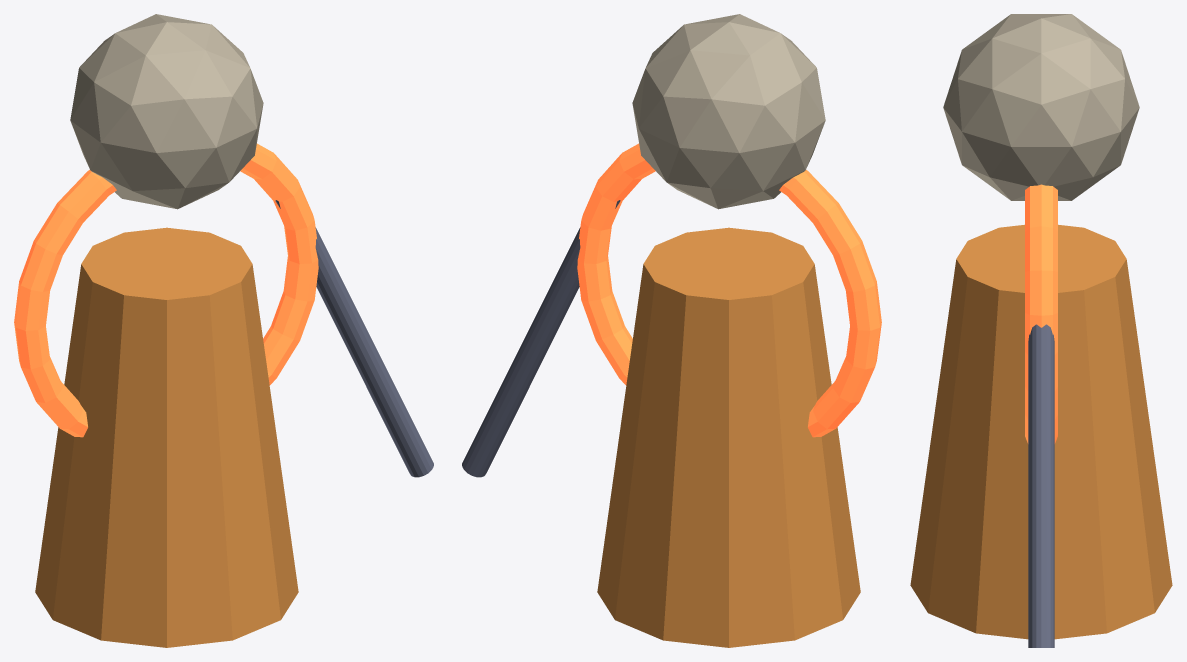
File: ember-cohort.glb
3 views of the same model, side by side, from view 1: azimuth 30°, elevation 25°; view 2: azimuth 150°, elevation 25°; view 3: azimuth 270°, elevation 25° (orthographic).
Visible parts, largest first — view 1: ember-body, ember-head, ember-spark-ring, ember-blade; view 2: ember-body, ember-head, ember-spark-ring, ember-blade; view 3: ember-body, ember-head, ember-blade, ember-spark-ring.
Part boxes in pixels (x1,y1,x2,y2): ember-body: (35, 227, 298, 647); ember-head: (70, 14, 263, 209); ember-spark-ring: (14, 143, 318, 437); ember-blade: (275, 200, 433, 477); ember-body: (597, 227, 860, 647); ember-head: (632, 14, 825, 209); ember-spark-ring: (577, 143, 881, 437); ember-blade: (462, 200, 620, 477); ember-body: (910, 224, 1172, 639); ember-head: (943, 14, 1139, 200); ember-blade: (1028, 324, 1054, 647); ember-spark-ring: (1025, 184, 1057, 443).
Size of the model in its own units: 0.7299 by 0.955 by 0.4.
